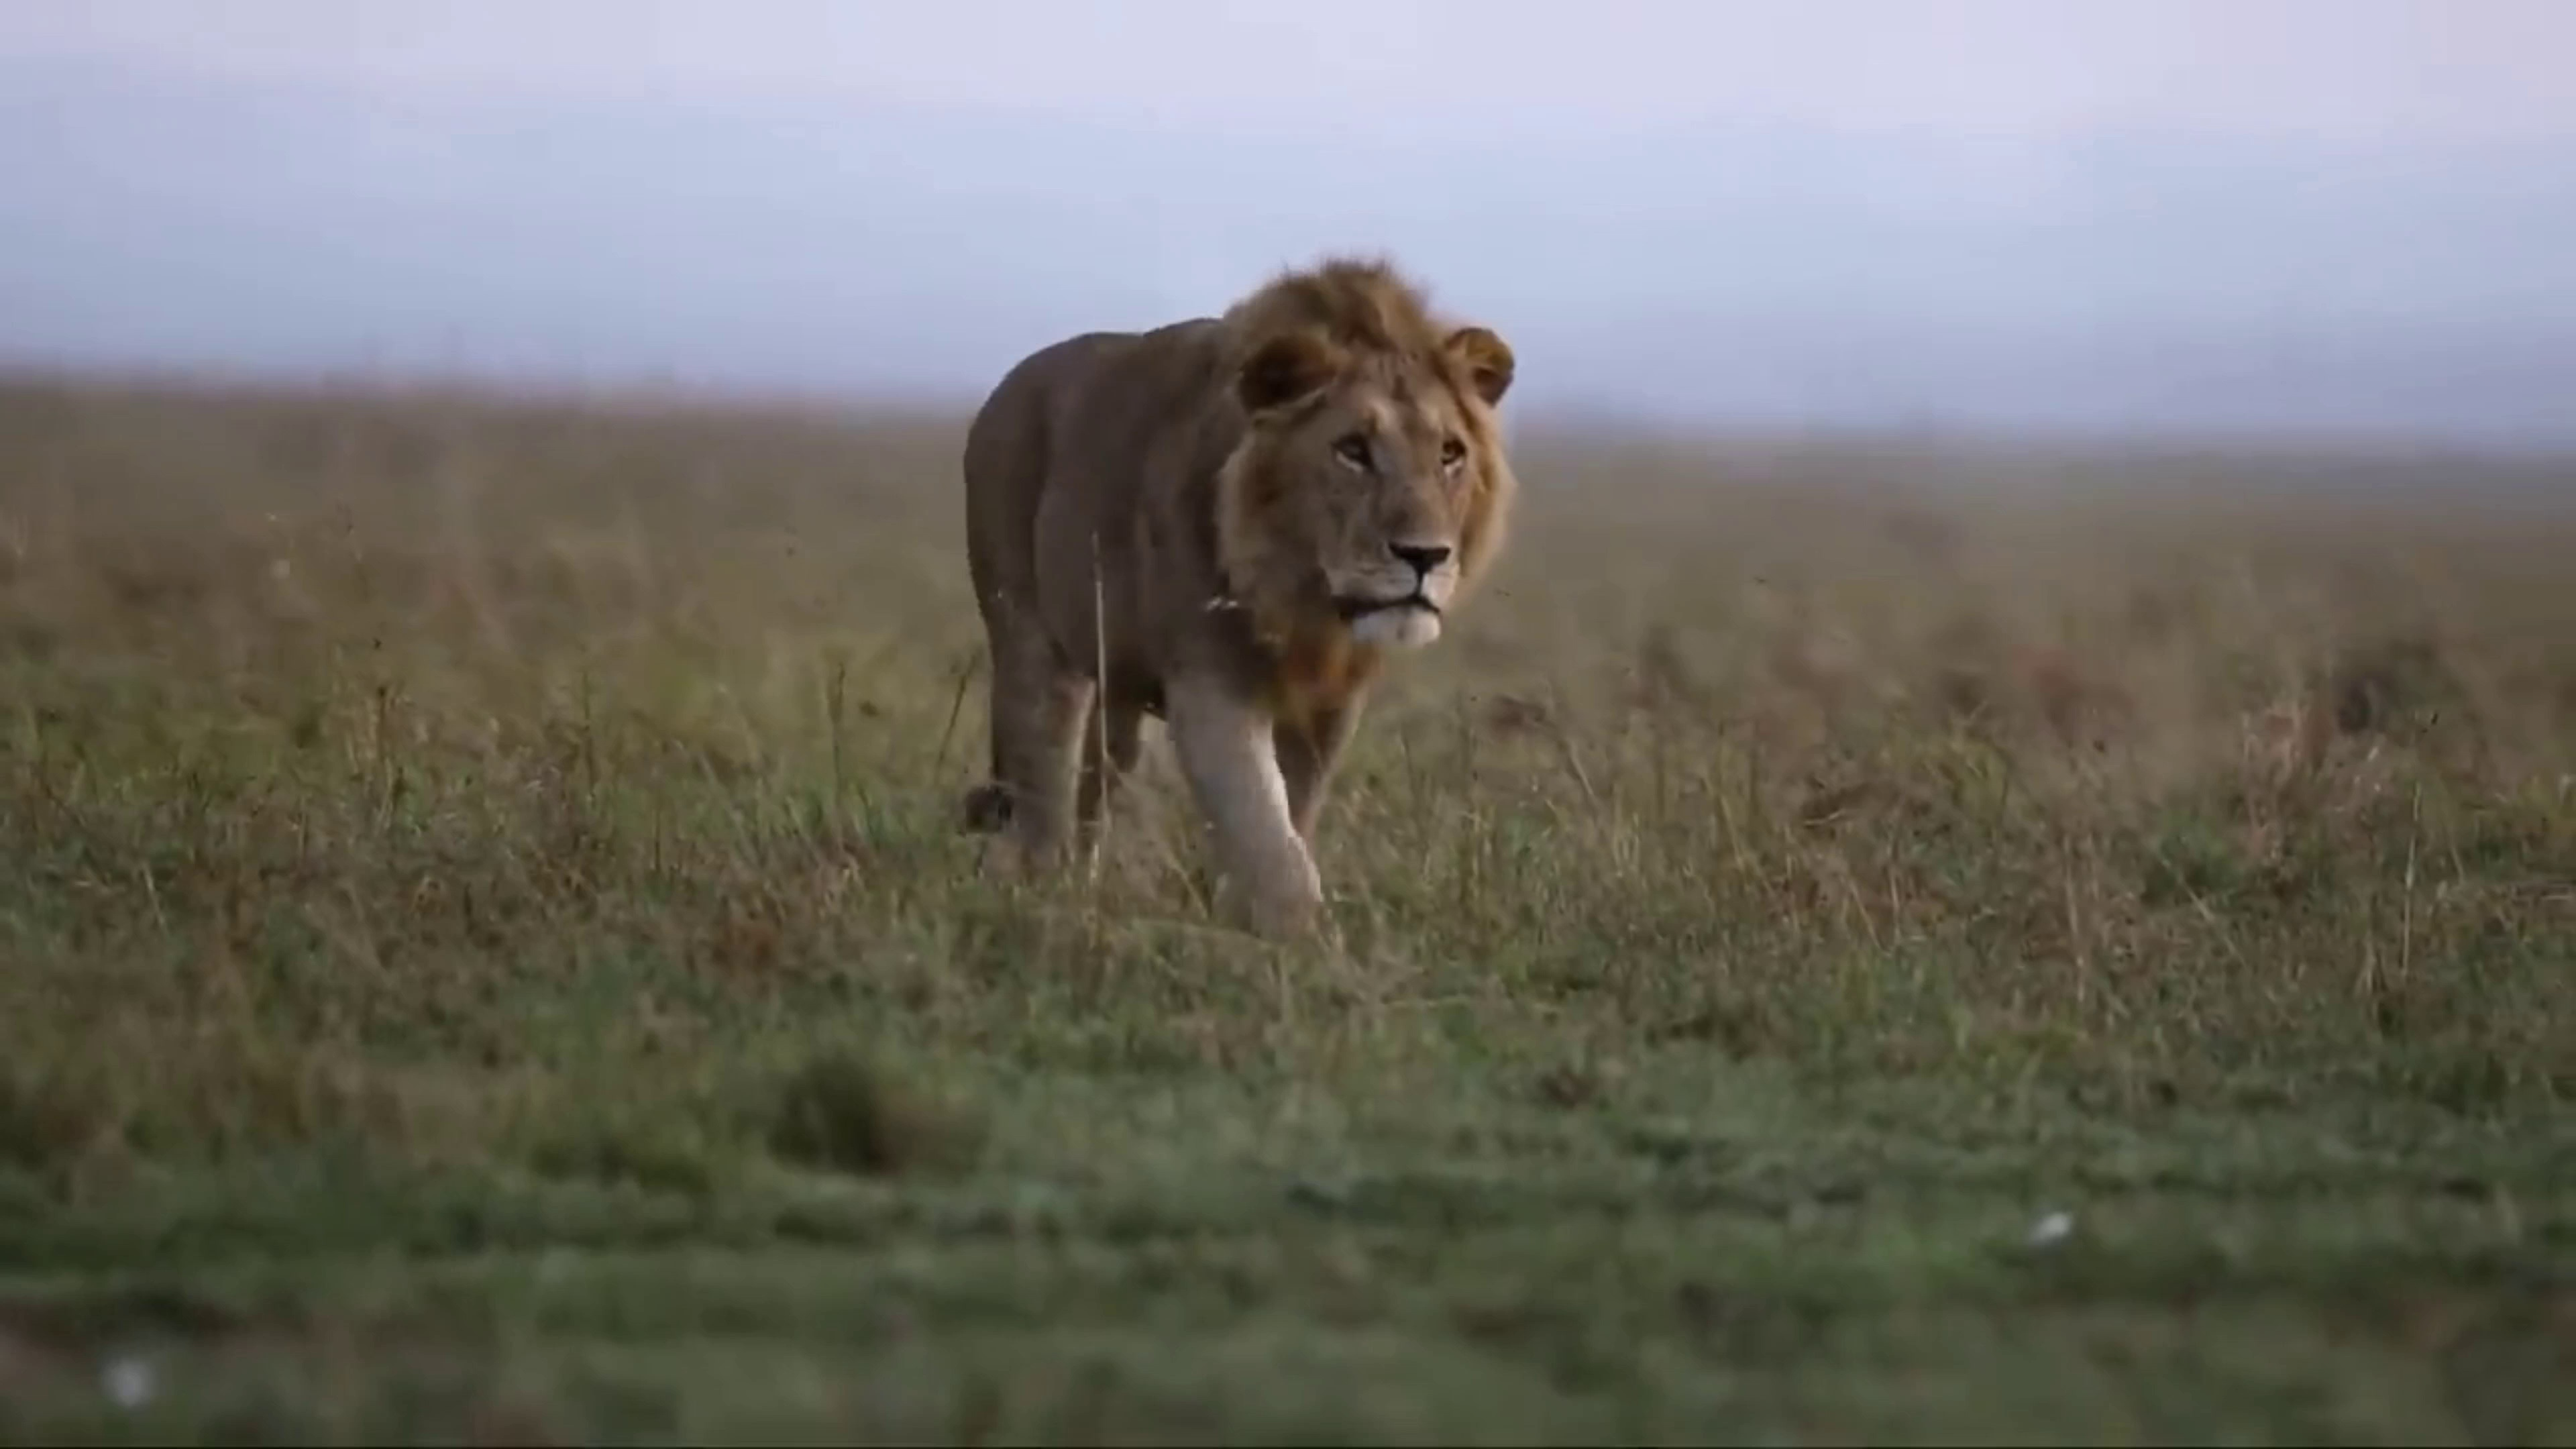Lion: (959, 253, 1522, 950)
